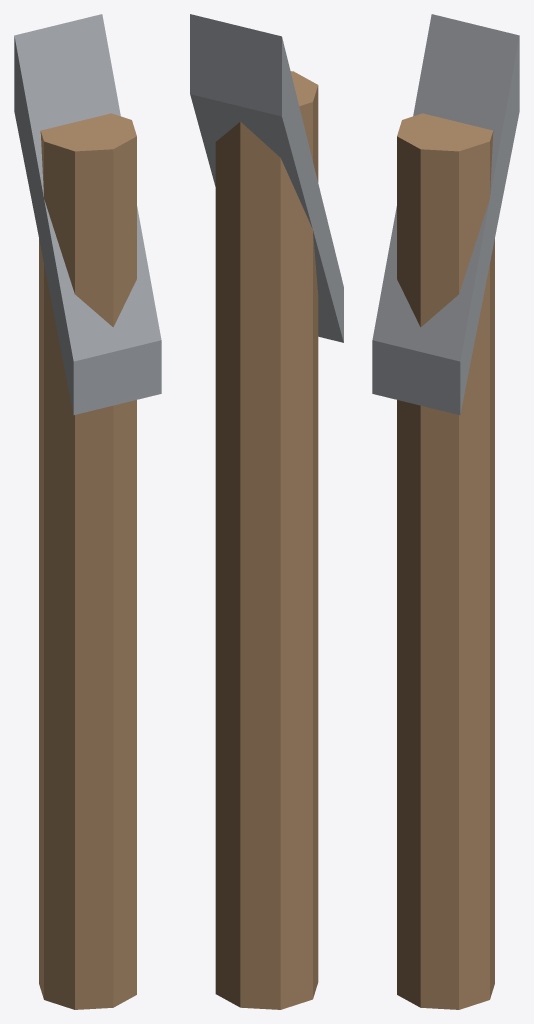
The model's file is hammer.glb.
3 views of the same model, side by side, from view 1: azimuth 30°, elevation 25°; view 2: azimuth 150°, elevation 25°; view 3: azimuth 330°, elevation 25° (orthographic). The views are drawn at different scales.
Visible parts, largest first — view 1: hammer; view 2: hammer; view 3: hammer.
Boxes of the visible parts, <box> form: hammer: <box>14,14,161,1009</box>; hammer: <box>190,14,343,1009</box>; hammer: <box>372,14,519,1009</box>.
Size of the model in its own units: 0.03 by 0.3075 by 0.035.
